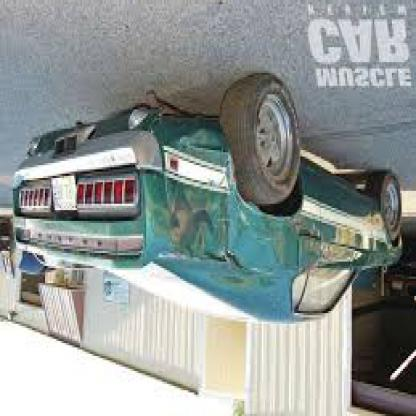dent: (168, 194, 226, 256)
